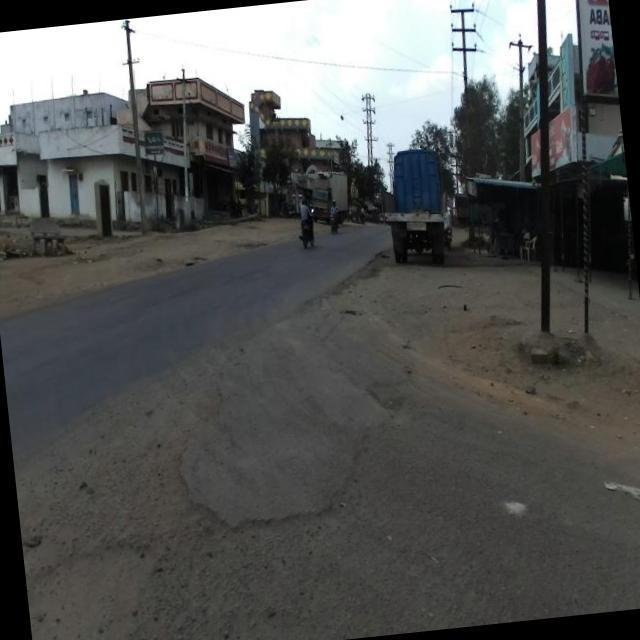Pothole: (176, 338, 422, 536)
